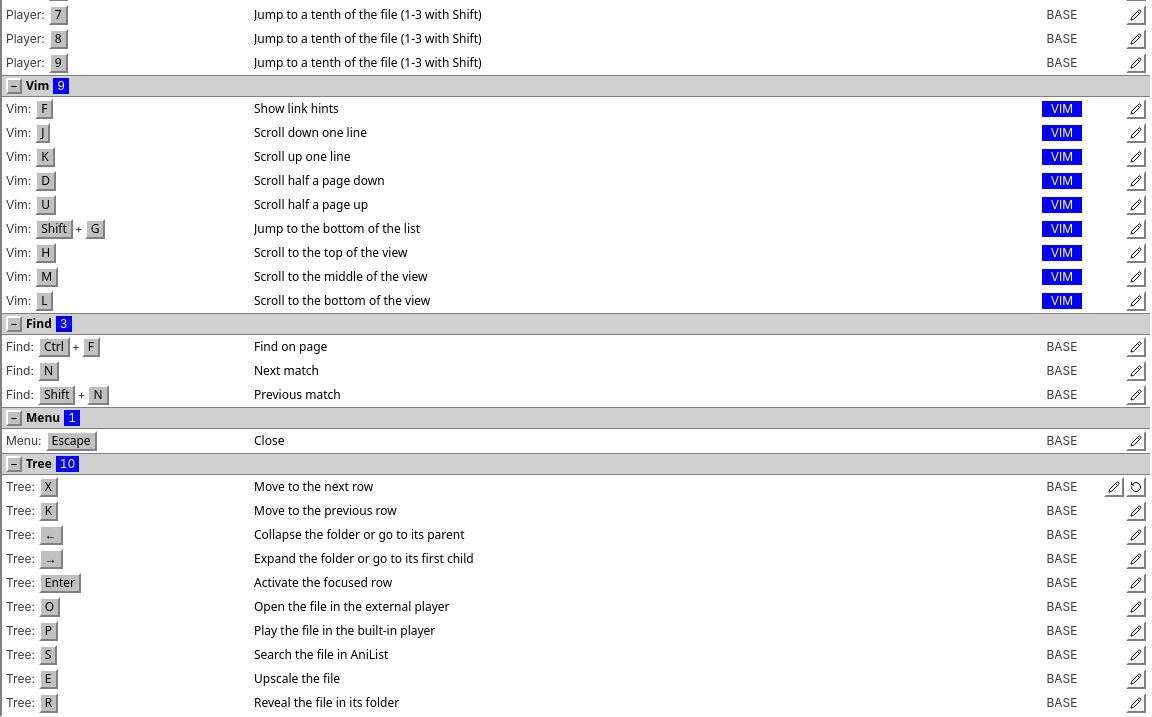
Test: SettingsKeybinds editor › shows the action, current and new chord groups in the editor
The width and height of the screenshot is (1152, 717).
(page scrolled)
Click the button named "edit tree.move.down".
click(1114, 487)  # box [1104, 477, 1124, 497]
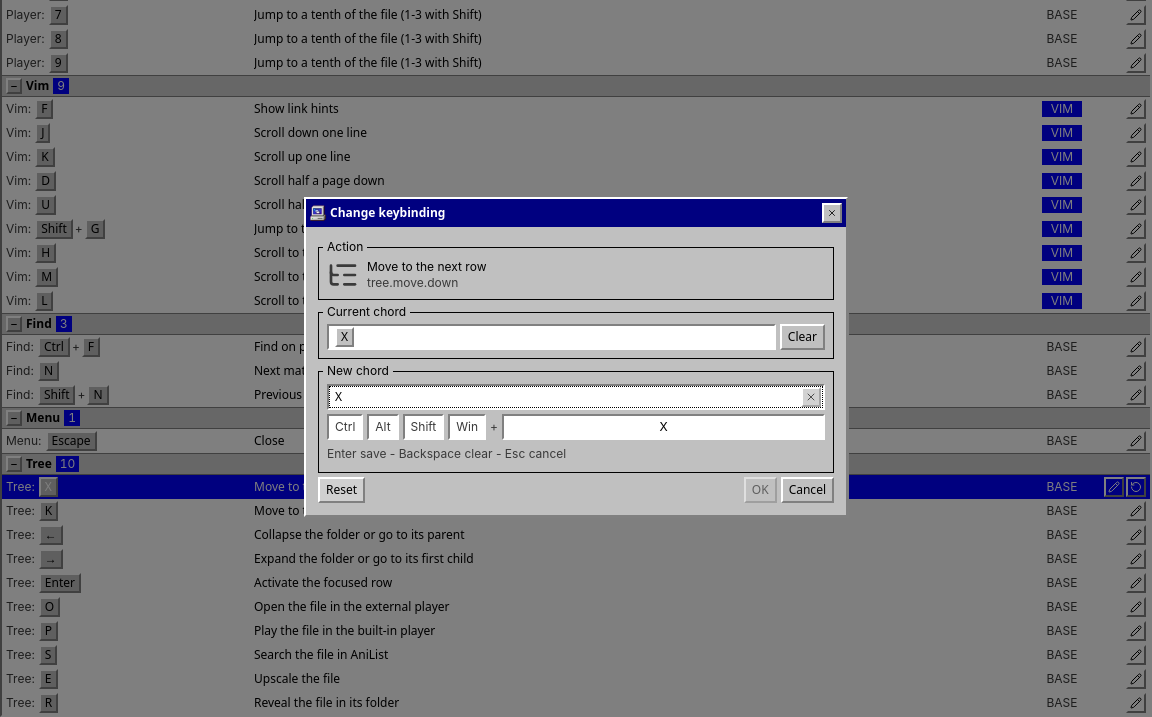
Expected: the text "Action" is shown, [327, 239, 363, 254]
Expected: the text "Move to the next row" is shown, [367, 259, 486, 275]
Expected: the text "tree.move.down" is shown, [367, 275, 458, 290]
